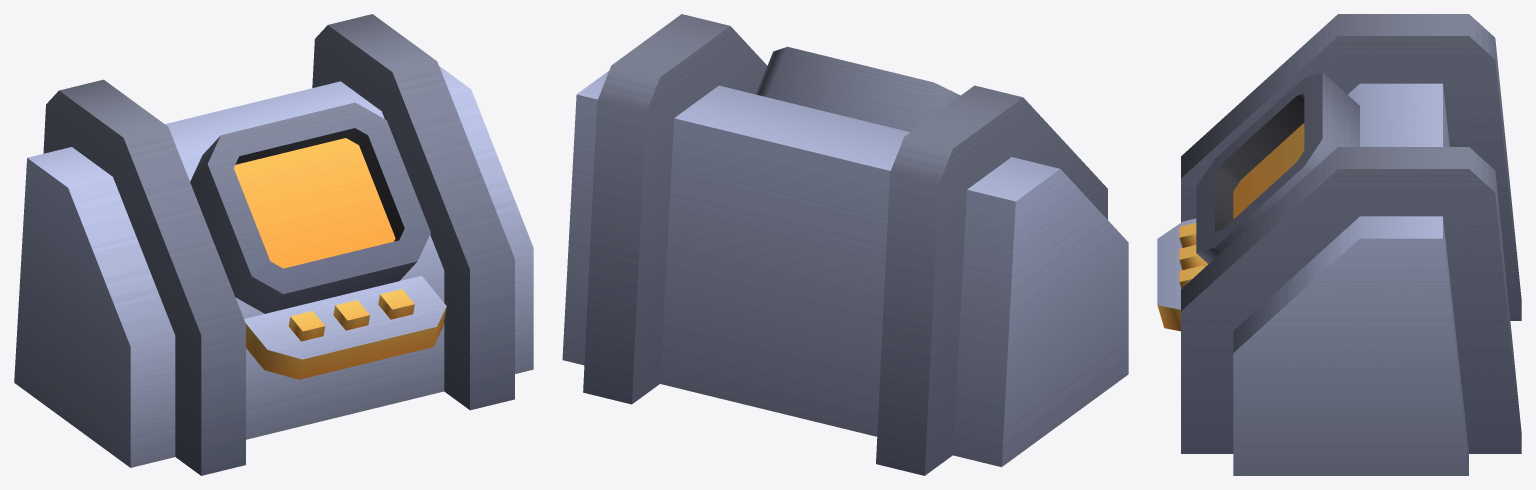
File: kenney-space-station_computer-system.glb
The picture shows the model from 3 angles, left to right: view 1: azimuth 30°, elevation 25°; view 2: azimuth 150°, elevation 25°; view 3: azimuth 270°, elevation 25°; orthographic projection. The views are drawn at different scales.
Parts seen in each view (by area): view 1: computer-system; view 2: computer-system; view 3: computer-system.
Boxes of the visible parts, x1,y1,x2,y2 form: computer-system: [14, 14, 533, 475]; computer-system: [562, 14, 1128, 475]; computer-system: [1157, 14, 1521, 475].
Size of the model in its own units: 0.9 by 0.6 by 0.6949.
Materials: 1 (1 with a texture image).
